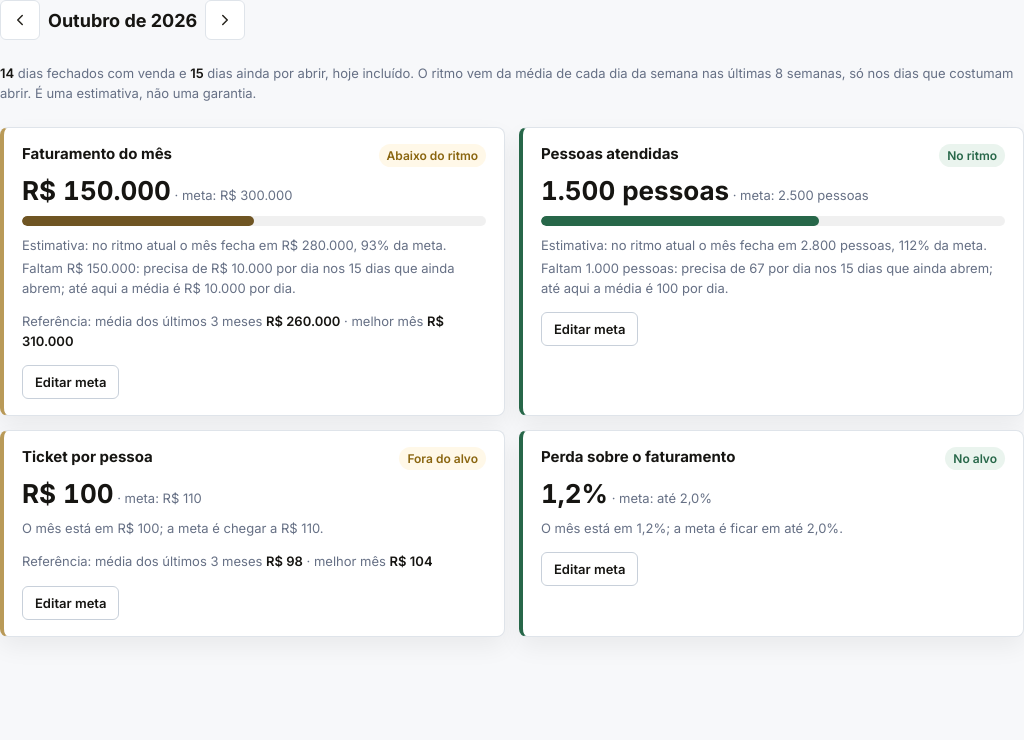
Test: MetasPanel (busca, mes e gravacao) › grava pelo mes na tela e troca os dados pela resposta
Expected: the heading "outubro de 2026" is shown, 48,10 -> 197,30
Click the button "Editar meta" below "Faturamento do mês" at coordinates (71, 382), box 22,365 -> 120,399
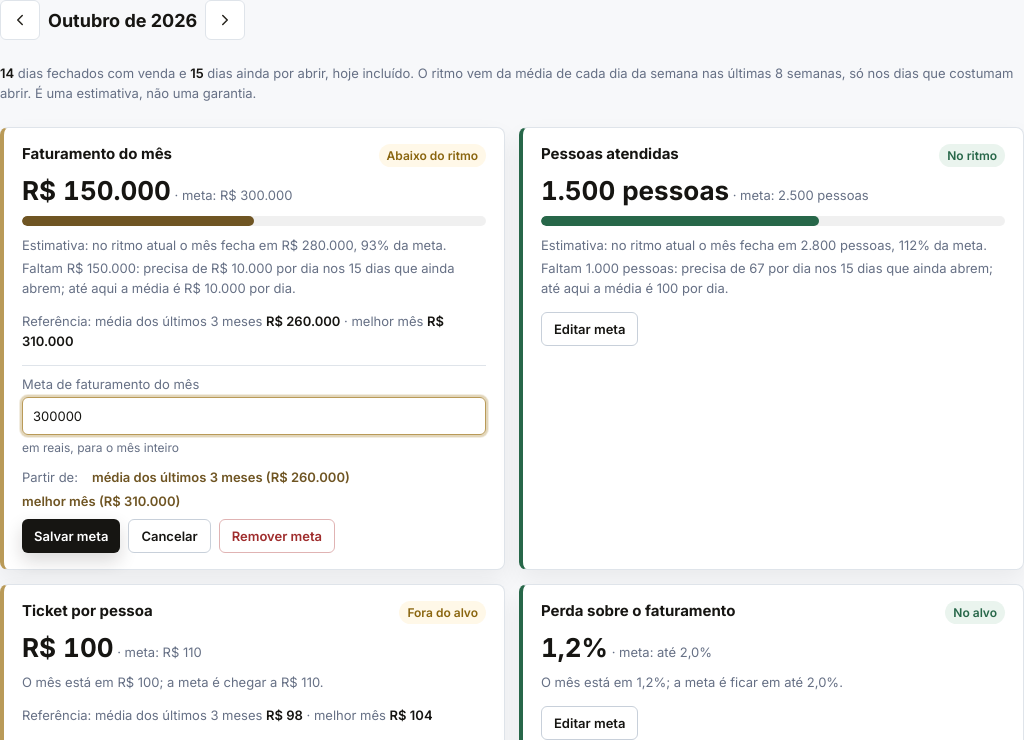
Replace the text in the field labelled "Meta de faturamento do mês em reais, para o mês inteiro" with "320000" at coordinates (254, 416), box 22,397 -> 486,435
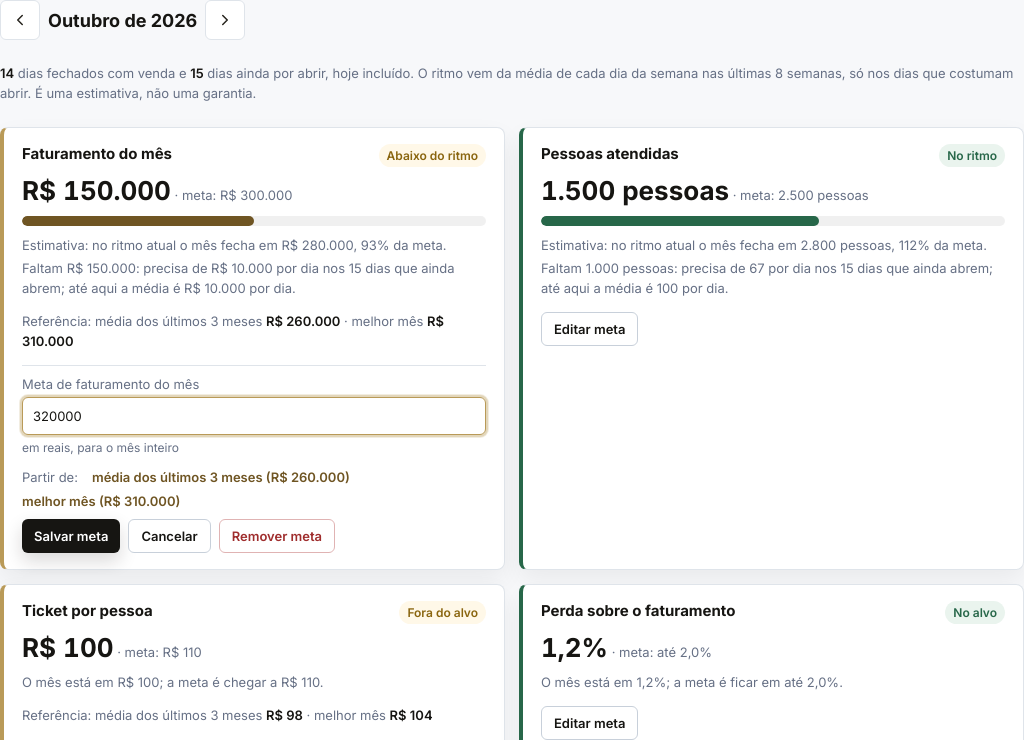
Click the button "Salvar meta" at coordinates (71, 536), box 22,519 -> 120,553
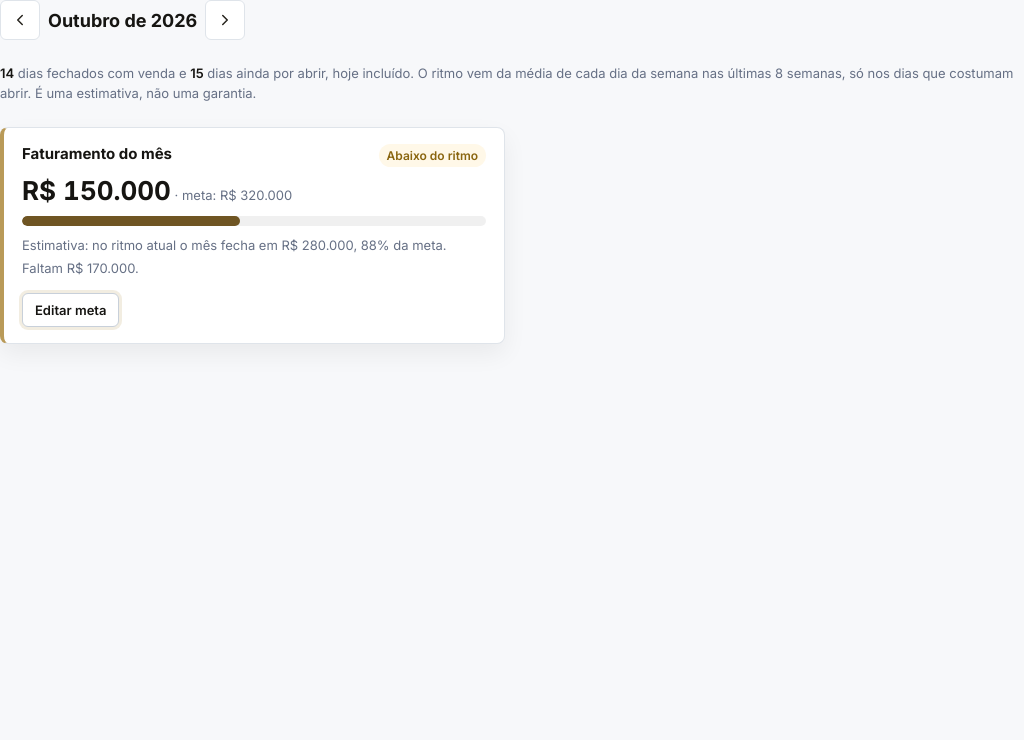
Now the text "· meta: R$ 320.000" is shown, box 171,187 -> 292,203
